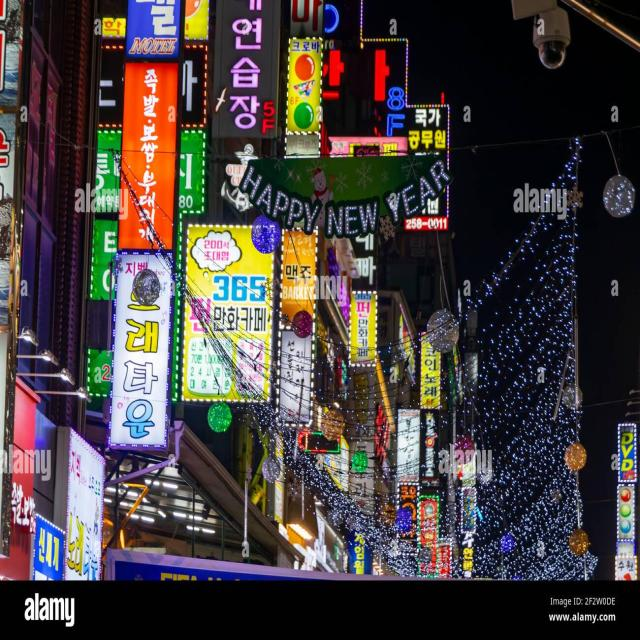light_signboard: (240, 144, 446, 233), (183, 220, 274, 407), (109, 253, 172, 452), (118, 58, 171, 255), (86, 129, 206, 215), (220, 5, 286, 144), (94, 48, 204, 130), (55, 437, 107, 585), (324, 53, 411, 138), (91, 222, 180, 303), (408, 107, 452, 229), (92, 0, 208, 46), (295, 408, 351, 490), (273, 325, 316, 431), (287, 41, 322, 165), (278, 228, 319, 332), (121, 0, 186, 65), (93, 352, 173, 398), (27, 515, 75, 581), (222, 144, 266, 212), (1, 478, 43, 545), (326, 253, 355, 324), (416, 498, 446, 566), (350, 217, 375, 298), (321, 326, 348, 400), (321, 136, 406, 156), (352, 288, 374, 360), (422, 326, 440, 414), (398, 402, 417, 483), (612, 484, 637, 544), (391, 475, 412, 544), (350, 523, 374, 577), (421, 414, 436, 496), (614, 545, 640, 586), (618, 424, 635, 481), (461, 528, 474, 582), (463, 499, 477, 538), (440, 545, 454, 573)
lighting: (108, 471, 223, 547), (283, 520, 324, 554), (36, 349, 60, 374), (15, 324, 40, 346), (75, 381, 92, 409), (59, 370, 76, 391)
